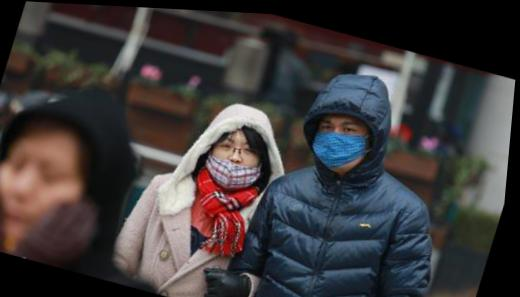NONE: (1, 137, 90, 243)
WRONG: (308, 103, 376, 176), (210, 127, 272, 187)
